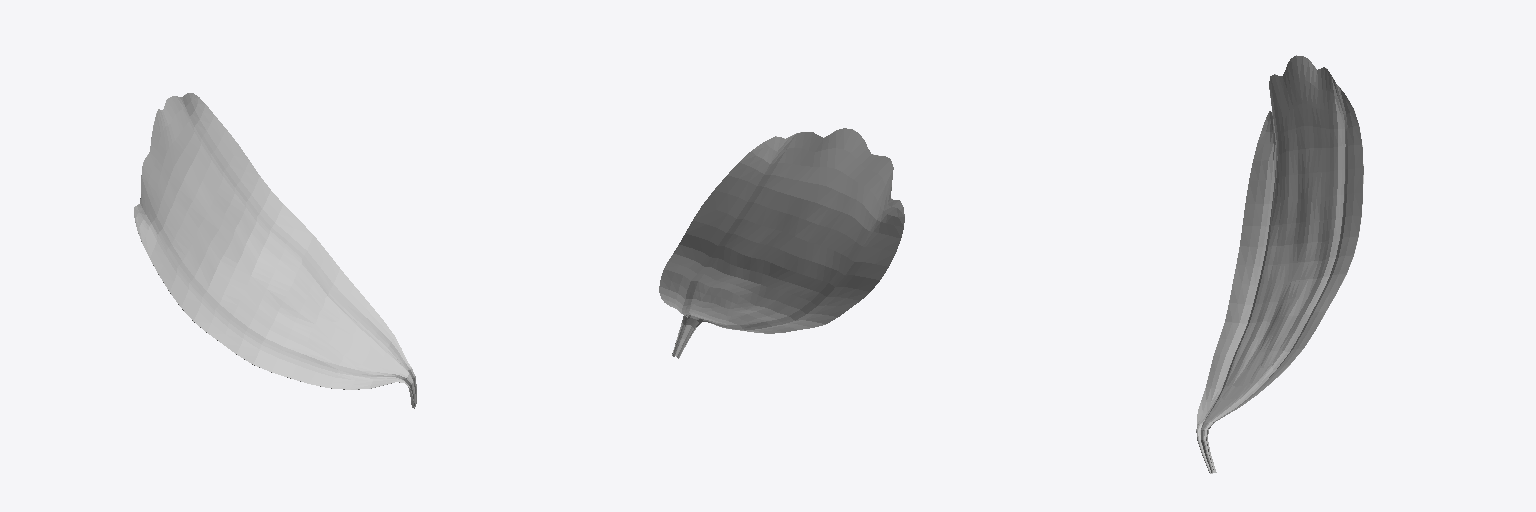
Rendered from petal4.obj.
3 renders of one model, left to right at view 1: azimuth 30°, elevation 25°; view 2: azimuth 150°, elevation 25°; view 3: azimuth 270°, elevation 25°, orthographic.
Parts seen in each view (by area): view 1: facb_petal_4; view 2: facb_petal_4; view 3: facb_petal_4.
Boxes of the visible parts, box(x1,y1,x2,y2) form: facb_petal_4: box(134, 93, 416, 408); facb_petal_4: box(659, 128, 904, 358); facb_petal_4: box(1196, 55, 1363, 473).
Size of the model in its own units: 1.53 by 1.79 by 0.8627.